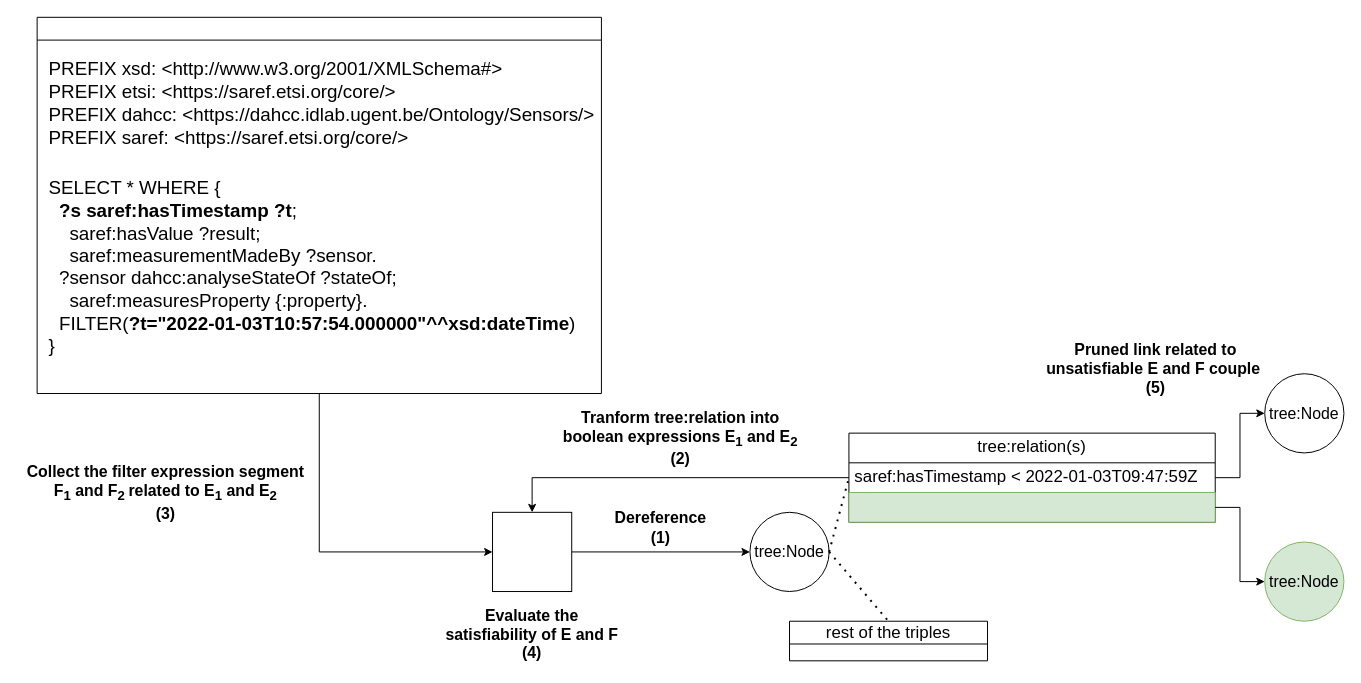
This 1361x683 diagram has some shape labels left out. Each missing label, with the box of its shape:
Query: (36, 16, 601, 394)
Query engine: (492, 511, 572, 592)
saref:hasTimestamp >= 2022-01-03T09:47:59Z: (848, 492, 1215, 522)
